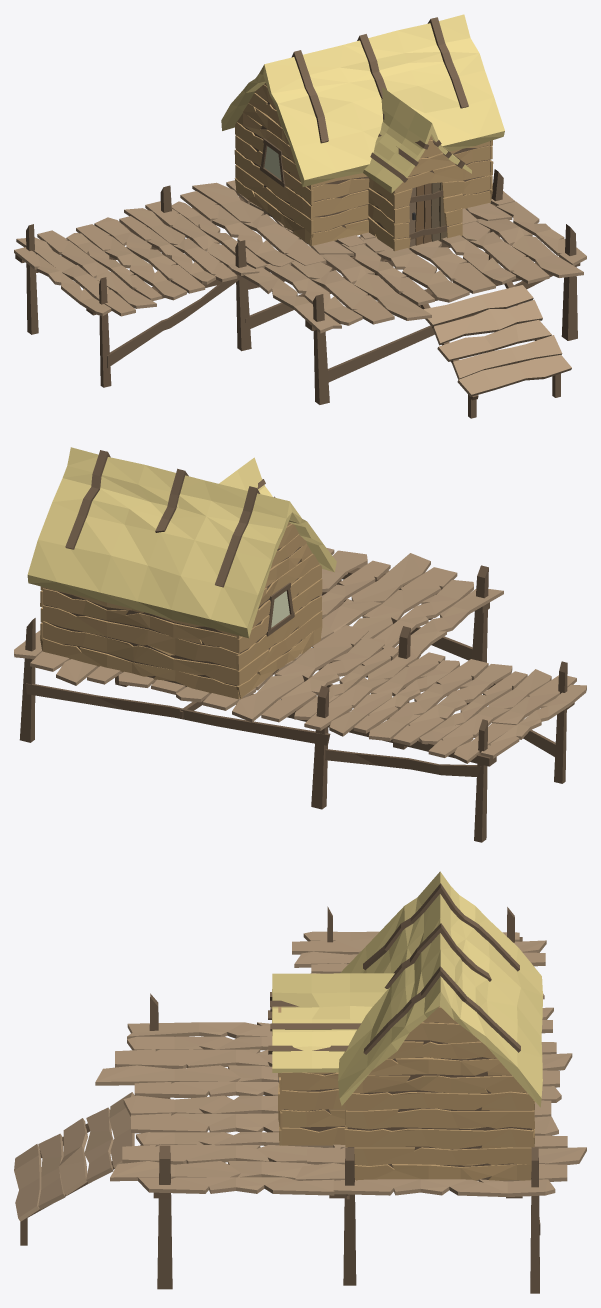
File: Hut_2.fbx
3 renders of one model, top to bottom at view 1: azimuth 30°, elevation 25°; view 2: azimuth 150°, elevation 25°; view 3: azimuth 270°, elevation 25°, orthographic. The views are drawn at different scales.
Visible parts, largest first — view 1: Platform_4, Hut_2, Stairs_4; view 2: Hut_2, Platform_4; view 3: Hut_2, Platform_4, Stairs_4.
Part boxes in pixels (x1=…): Platform_4: x1=14, y1=169, x2=586, y2=404; Hut_2: x1=221, y1=14, x2=504, y2=251; Stairs_4: x1=420, y1=281, x2=571, y2=418; Hut_2: x1=27, y1=447, x2=336, y2=699; Platform_4: x1=14, y1=548, x2=586, y2=842; Hut_2: x1=268, y1=871, x2=542, y2=1180; Platform_4: x1=95, y1=906, x2=586, y2=1293; Stairs_4: x1=14, y1=1092, x2=140, y2=1245.
Size of the model in its own units: 1221 by 661 by 1131.
Materials: 1 (1 with a texture image).
